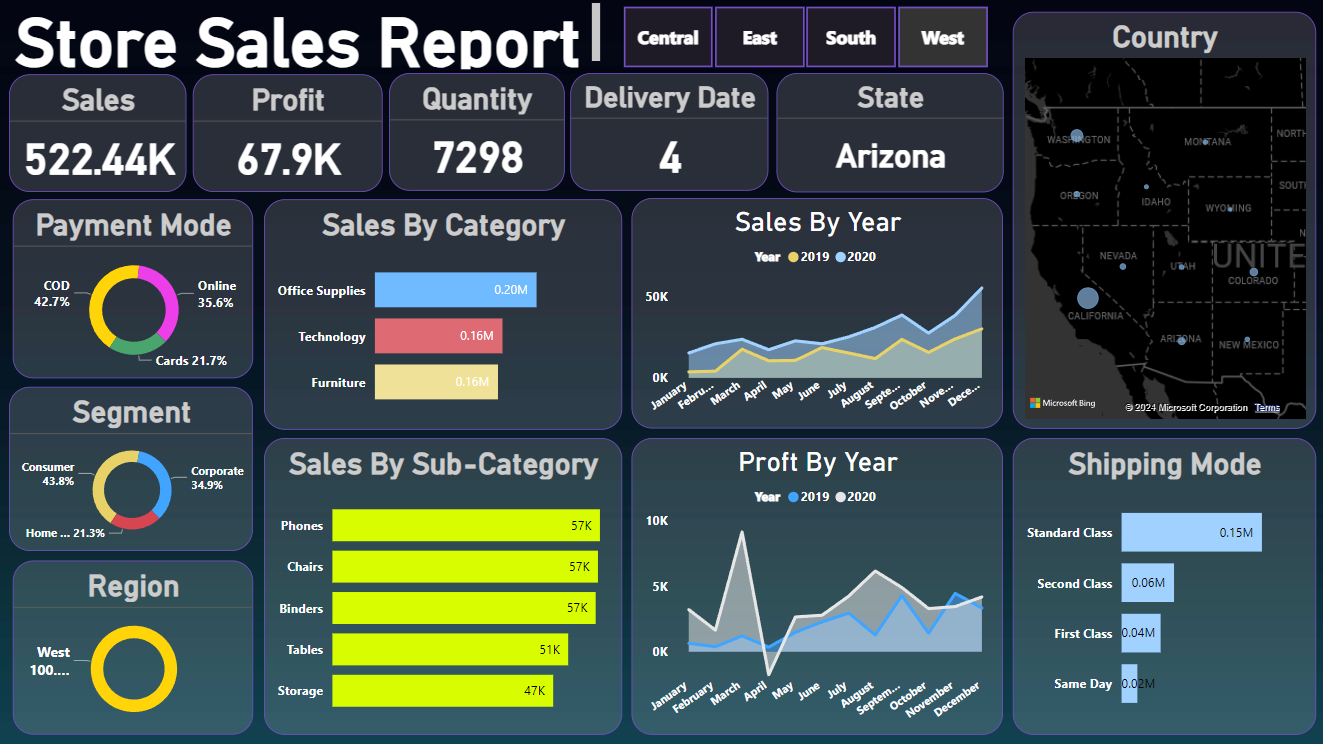

The dashboard page shown, as its layout file describes it:
{"tool":"powerbi","page":{"name":"Page 1","canvas":[1280,720],"ordinal":0},"visuals":[{"type":"barChart","title":"Sales By Category","fields":{"Category":["SuperStore_Sales_Dataset.Category"],"Y":["Sum(SuperStore_Sales_Dataset.Sales)"]},"box":[255.5,193.6,345.5,222.7],"z":0},{"type":"barChart","title":"Sales By Sub-Category","fields":{"Category":["SuperStore_Sales_Dataset.Sub-Category"],"Y":["Sum(SuperStore_Sales_Dataset.Sales)"]},"box":[255.5,424.5,345.5,286.4],"z":1000},{"type":"barChart","title":"Shipping Mode","fields":{"Category":["SuperStore_Sales_Dataset.Ship Mode"],"Y":["Sum(SuperStore_Sales_Dataset.Sales)"]},"box":[978.3,424.2,292.5,286.7],"z":2000},{"type":"areaChart","title":"Sales By Year","fields":{"Y":["Sum(SuperStore_Sales_Dataset.Sales)"],"Series":["SuperStore_Sales_Dataset.Order Date.Variation.Date Hierarchy.Year"],"Category":["SuperStore_Sales_Dataset.Order Date.Variation.Date Hierarchy.Month","SuperStore_Sales_Dataset.Order Date.Variation.Date Hierarchy.Day"]},"box":[610.8,193.3,358.3,222.5],"z":3000},{"type":"areaChart","title":"Proft By Year","fields":{"Series":["SuperStore_Sales_Dataset.Order Date.Variation.Date Hierarchy.Year"],"Category":["SuperStore_Sales_Dataset.Order Date.Variation.Date Hierarchy.Month","SuperStore_Sales_Dataset.Order Date.Variation.Date Hierarchy.Day"],"Y":["Sum(SuperStore_Sales_Dataset.Profit)"]},"box":[610.8,424.2,358.3,286.7],"z":4000},{"type":"map","title":"State","fields":{"Category":["SuperStore_Sales_Dataset.State"],"Size":["Sum(SuperStore_Sales_Dataset.Sales)"]},"box":[978.3,13.3,292.5,402.5],"z":5000},{"type":"donutChart","title":"Segment","fields":{"Category":["SuperStore_Sales_Dataset.Segment"],"Y":["Sum(SuperStore_Sales_Dataset.Sales)"]},"box":[10,375.5,235.5,158.2],"z":6000},{"type":"donutChart","title":"Payment Mode","fields":{"Y":["Sum(SuperStore_Sales_Dataset.Sales)"],"Category":["SuperStore_Sales_Dataset.Payment Mode"]},"box":[13.6,193.6,231.8,172.7],"z":7000},{"type":"donutChart","title":"Region","fields":{"Y":["Sum(SuperStore_Sales_Dataset.Sales)"],"Category":["SuperStore_Sales_Dataset.Region"]},"box":[13.6,542.7,231.8,168.2],"z":8000},{"type":"slicer","fields":{"Values":["SuperStore_Sales_Dataset.Region"]},"box":[576.2,1.2,401.2,72.5],"z":9000},{"type":"textbox","box":[0,0,585,73.8],"z":10000},{"type":"card","title":"Sales","fields":{"Values":["Sum(SuperStore_Sales_Dataset.Sales)"]},"box":[9.6,73.6,171.3,113.4],"z":11000},{"type":"card","title":"Quantity","fields":{"Values":["Sum(SuperStore_Sales_Dataset.Quantity)"]},"box":[375.7,72.9,169.3,113.6],"z":12000},{"type":"card","title":"Profit","fields":{"Values":["Sum(SuperStore_Sales_Dataset.Profit)"]},"box":[187.1,73.6,182.9,113.6],"z":13000},{"type":"card","title":"Delivery Date","fields":{"Values":["Avg(SuperStore_Sales_Dataset.AvgDeliveryDay)"]},"box":[551.4,72.9,191.4,113.6],"z":14000},{"type":"card","title":"State","fields":{"Values":["Min(SuperStore_Sales_Dataset.State)"]},"box":[750,72.5,219.2,115],"z":15000}]}

Visuals, with their boxes in screenshot pixels (x1, y1, x2, y2), scaled from the page's 1280x720 canvas onto the 1323x744 screenshot:
"Sales By Category" barChart: left=264, top=200, right=621, bottom=430
"Sales By Sub-Category" barChart: left=264, top=439, right=621, bottom=735
"Shipping Mode" barChart: left=1011, top=438, right=1313, bottom=735
"Sales By Year" areaChart: left=631, top=200, right=1002, bottom=430
"Proft By Year" areaChart: left=631, top=438, right=1002, bottom=735
"State" map: left=1011, top=14, right=1313, bottom=430
"Segment" donutChart: left=10, top=388, right=254, bottom=551
"Payment Mode" donutChart: left=14, top=200, right=254, bottom=379
"Region" donutChart: left=14, top=561, right=254, bottom=735
slicer - SuperStore_Sales_Dataset.Region: left=596, top=1, right=1010, bottom=76
textbox: left=0, top=0, right=605, bottom=76
"Sales" card: left=10, top=76, right=187, bottom=193
"Quantity" card: left=388, top=75, right=563, bottom=193
"Profit" card: left=193, top=76, right=382, bottom=193
"Delivery Date" card: left=570, top=75, right=768, bottom=193
"State" card: left=775, top=75, right=1002, bottom=194
